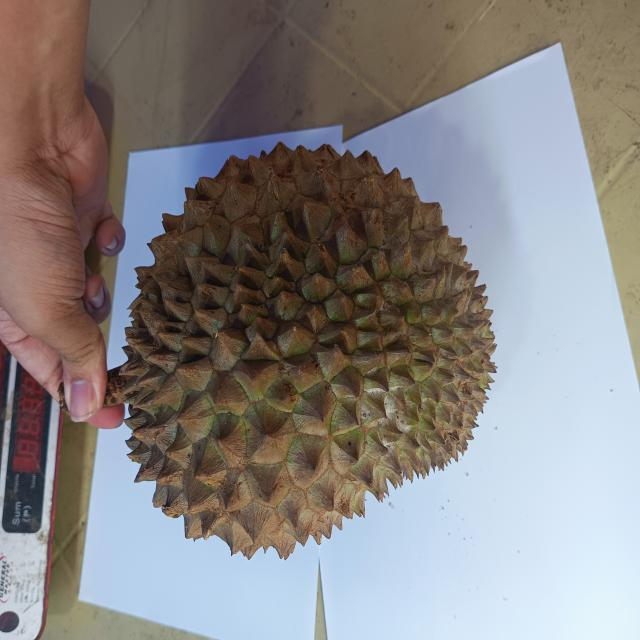mature: (122, 145, 494, 557)
